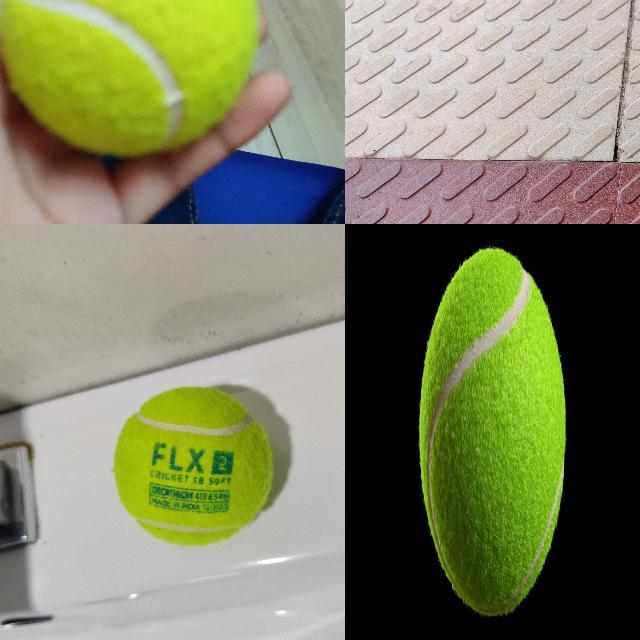tennis-ball: (418, 247, 567, 617), (1, 0, 256, 155), (111, 387, 274, 547)
